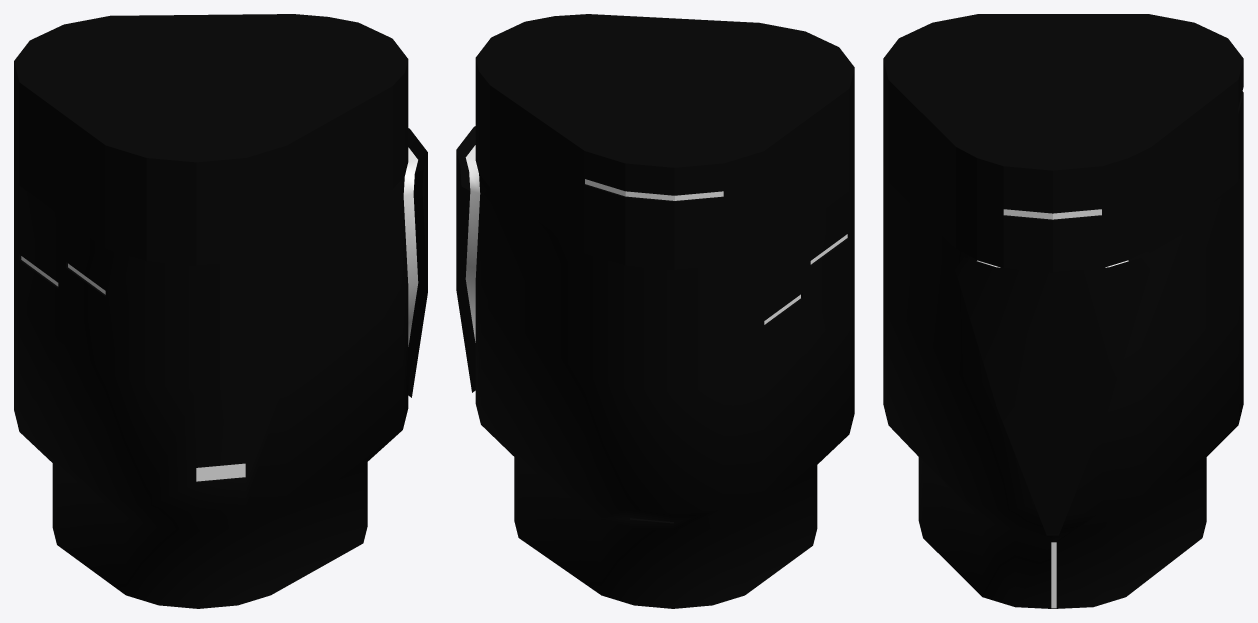
Rendered from Tron Building 3.FBX.
3 renders of one model, left to right at view 1: azimuth 30°, elevation 25°; view 2: azimuth 150°, elevation 25°; view 3: azimuth 270°, elevation 25°, orthographic.
Visible parts, largest first — view 1: Cylinder001; view 2: Cylinder001; view 3: Cylinder001.
Boxes of the visible parts, <box> form: Cylinder001: <box>14,14,427,608</box>; Cylinder001: <box>456,14,854,608</box>; Cylinder001: <box>883,14,1243,608</box>.
Size of the model in its own units: 194 by 251 by 179.
Materials: 1 (1 with a texture image).
